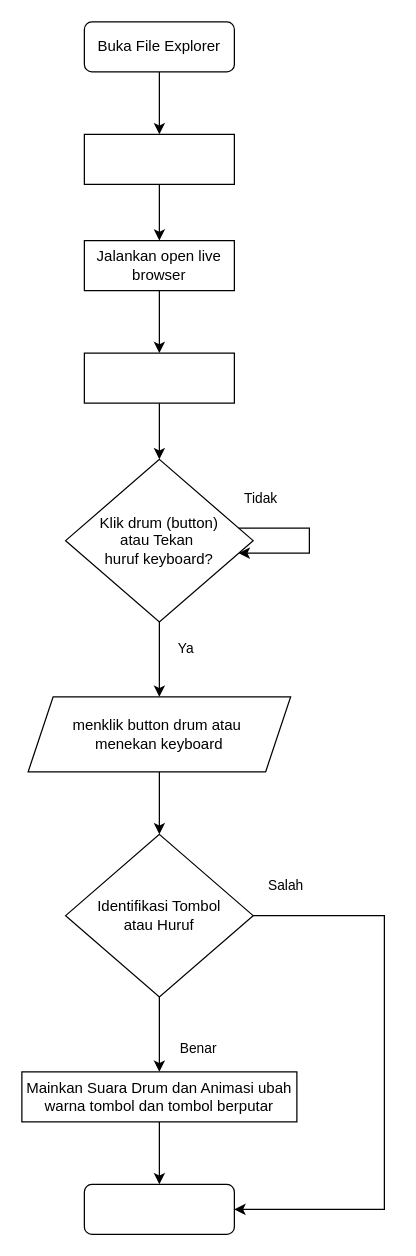
The diagram is 416 pixels wide and 1256 high, and some of its shapes have lost their labels. Here are the shapes that lost their labels. From the top down, the centre of each, then its label:
pixel 158 158: Membuka file Index.html
pixel 158 377: Memuat file CSS dan JS eksternal
pixel 158 1208: Selesai
